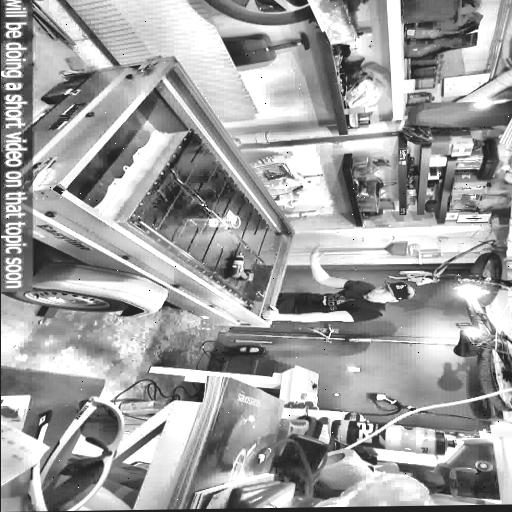b_casing: (127, 128, 280, 312)
